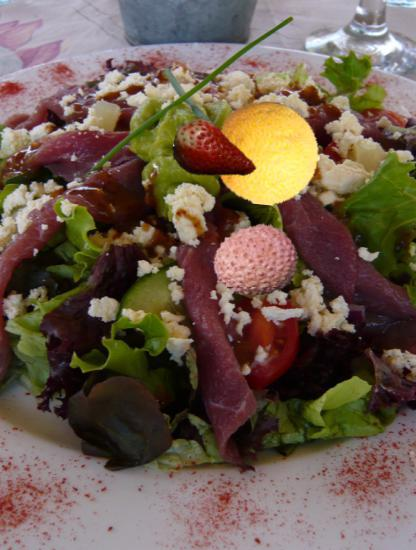Cantaloupe: (217, 102, 320, 205)
Lychee: (212, 215, 300, 303)
Strawberry: (173, 106, 260, 193)
